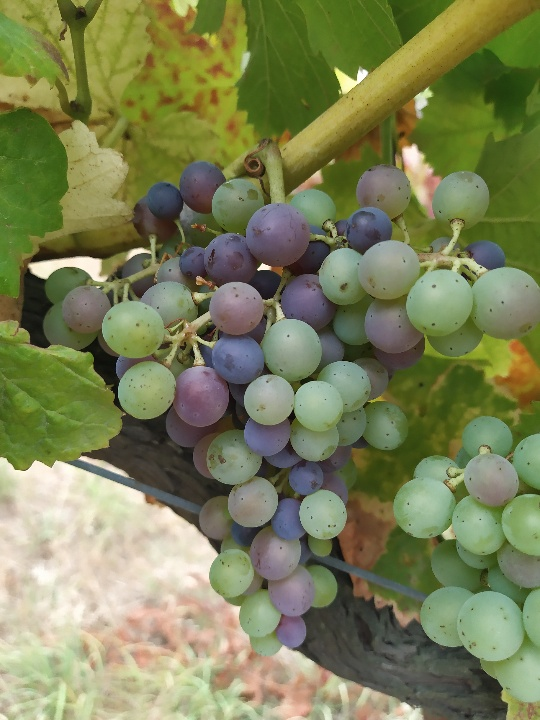grape: (44, 156, 540, 658)
